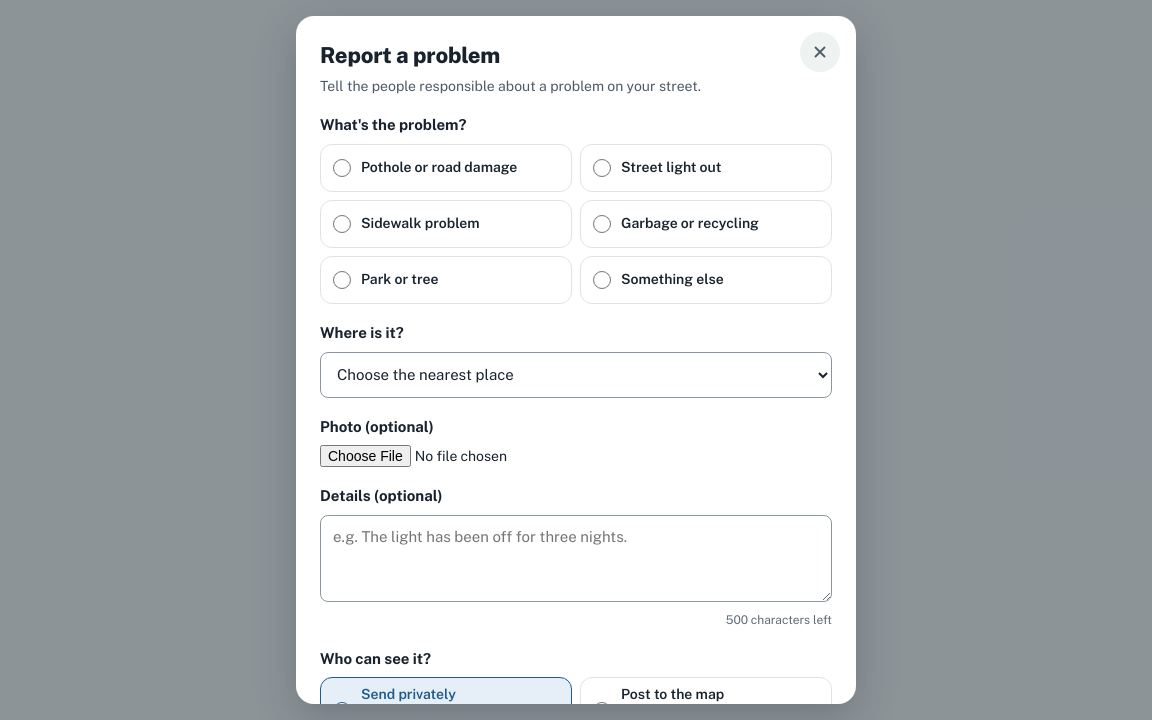
Test case: Report a problem (resident) › says who it goes to before sending, and never the BIA
The width and height of the screenshot is (1152, 720).
Click the radio button labelled "Street light out": coordinates (602, 168) [593,159,611,177]
(page scrolled)
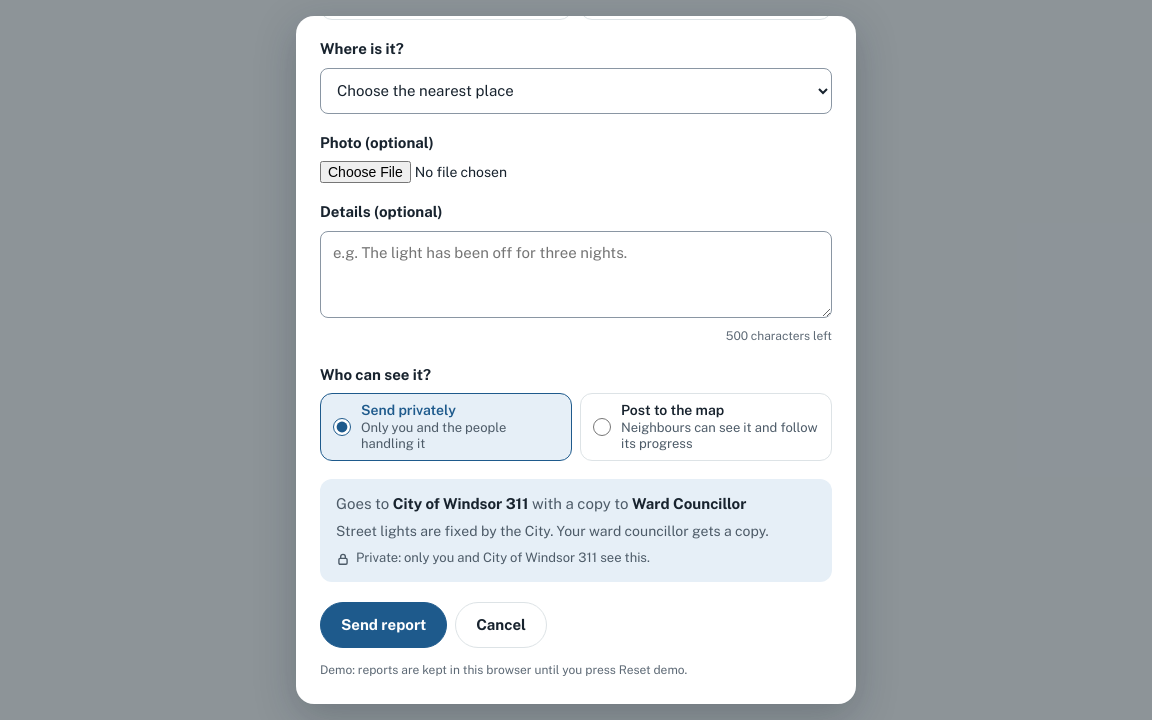
Result: the text "City of Windsor 311" is shown at [393,495,528,512]
Result: the text "Ward Councillor" is shown at [632,495,746,512]
Result: the text "Private: only you and City of Windsor 311 see this." is shown at [336,550,650,566]
